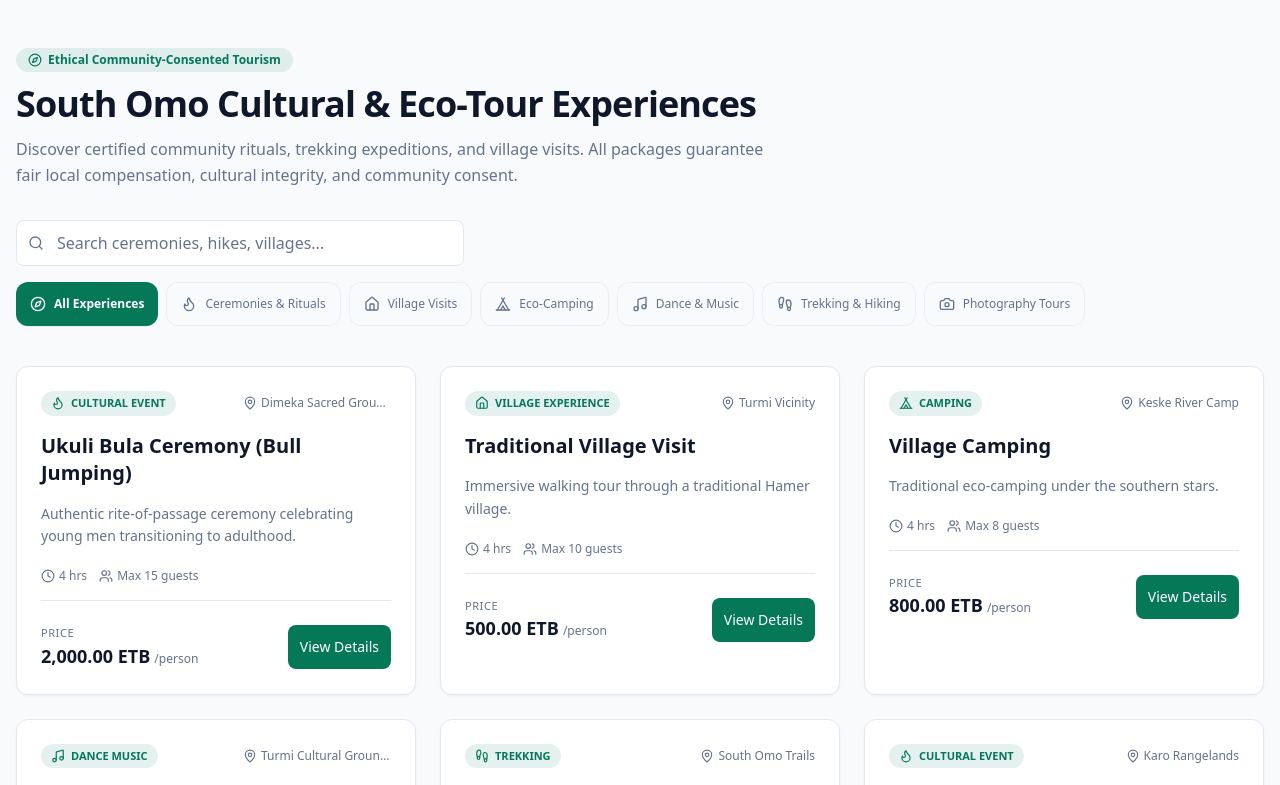
Test: Tourism Service Packages List (F-302) › filters packages when clicking category tabs
The width and height of the screenshot is (1280, 785).
Expected: the heading "Ukuli Bula Ceremony (Bull Jumping)" is shown, [41,432,301,486]
# Click Eco-Camping tab
Click the tab "Eco-Camping".
click(545, 304)  # box [480,282,609,326]
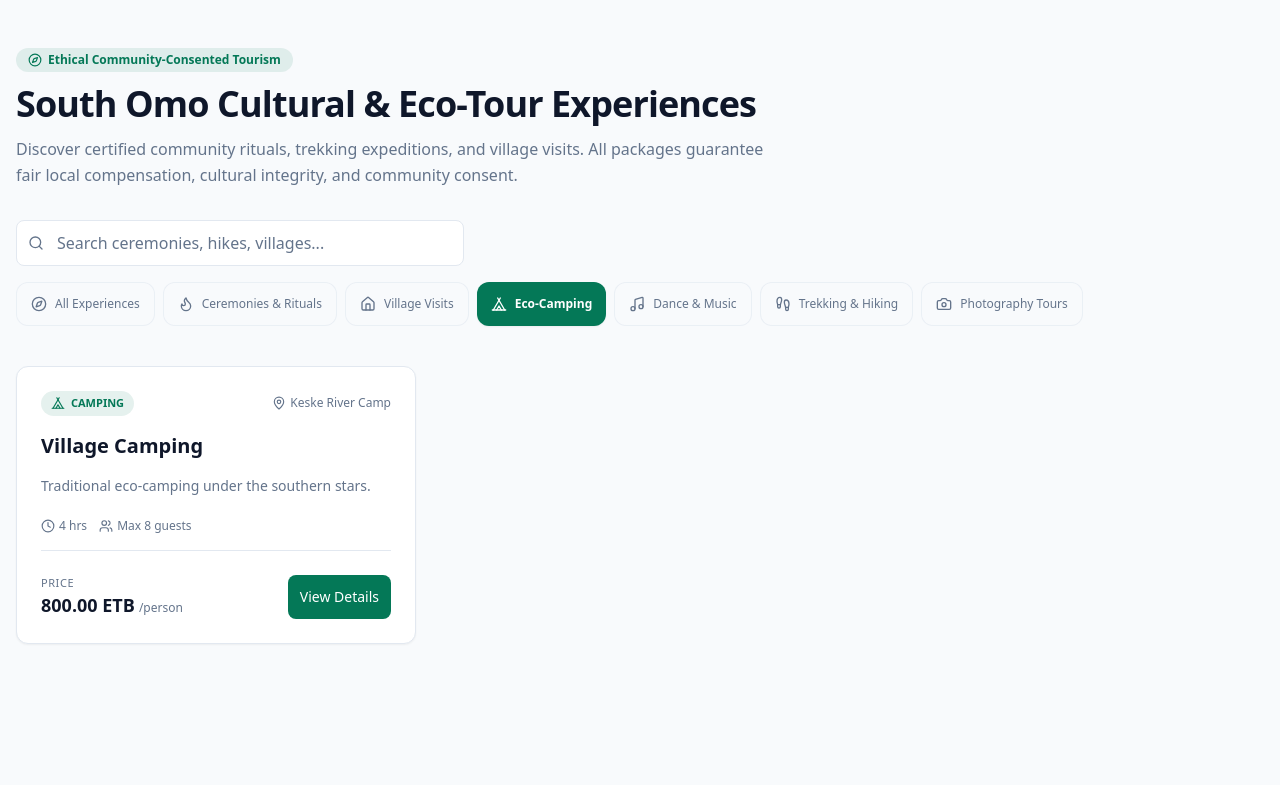
Expected: the heading "Village Camping" is shown, [41,432,203,458]
Expected: the heading "Ukuli Bula Ceremony (Bull Jumping)" is gone
Expected: the heading "Traditional Village Visit" is gone
# Click Trekking tab
Click the tab "Trekking & Hiking".
click(836, 304)  # box [760,282,913,326]
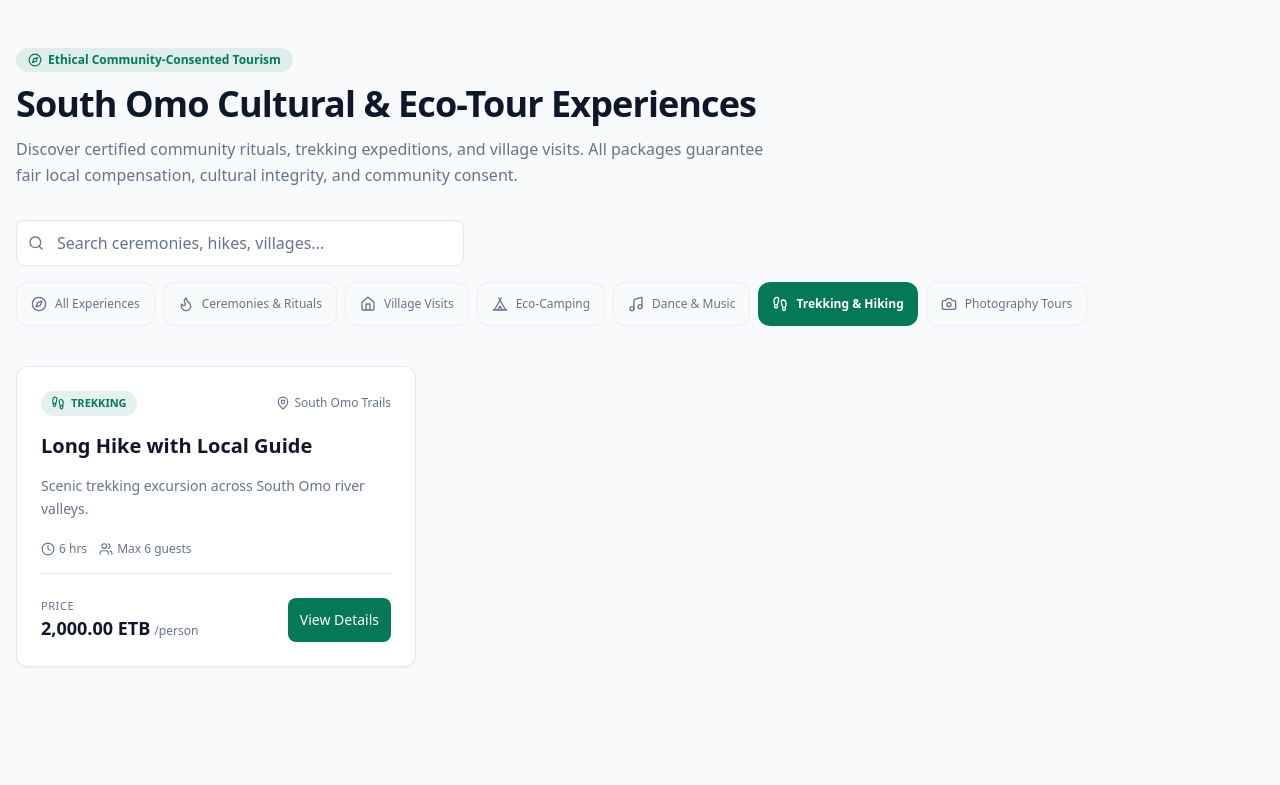
Expected: the heading "Long Hike with Local Guide" is shown, [41,432,312,458]
Expected: the heading "Village Camping" is gone
